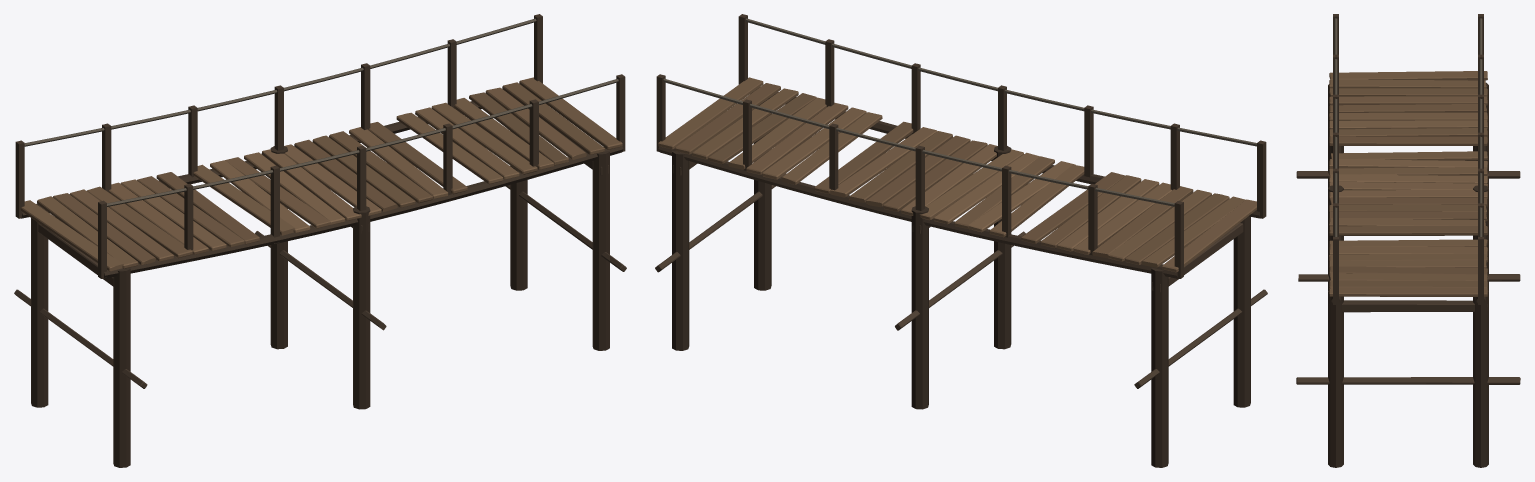
File: bridge_wood.glb
3 renders of one model, left to right at view 1: azimuth 30°, elevation 25°; view 2: azimuth 150°, elevation 25°; view 3: azimuth 270°, elevation 25°, orthographic. The views are drawn at different scales.
Parts seen in each view (by area): view 1: bridge_wood; view 2: bridge_wood; view 3: bridge_wood.
Part boxes in pixels (<box>): bridge_wood: <box>14,14,626,467</box>; bridge_wood: <box>655,14,1267,467</box>; bridge_wood: <box>1296,14,1520,467</box>.
Size of what is drawn, in the model's own units: 8.09 by 3.93 by 3.4.
